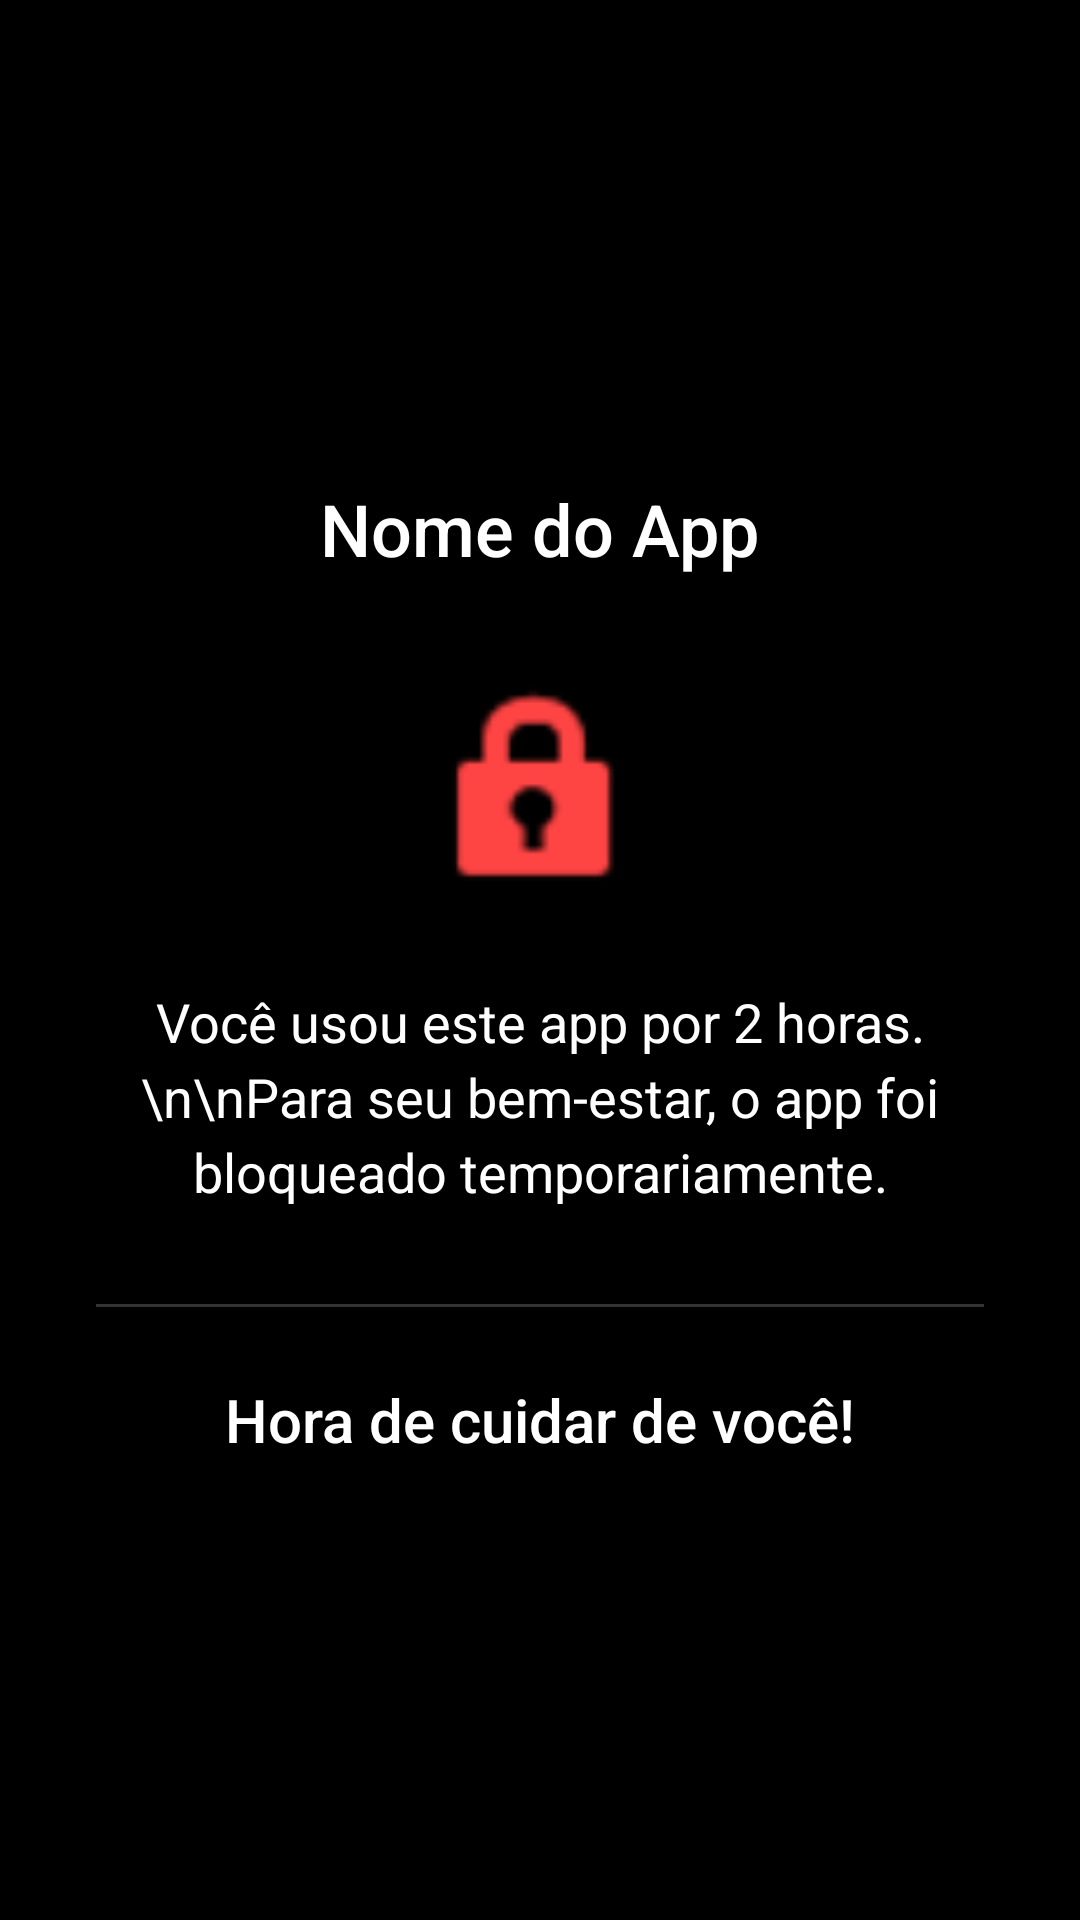

Named icons in this screenshot (1080×1920) and their bounding boxes, (x1, y1, x2, y2):
lock idle: (456, 692, 614, 877)
